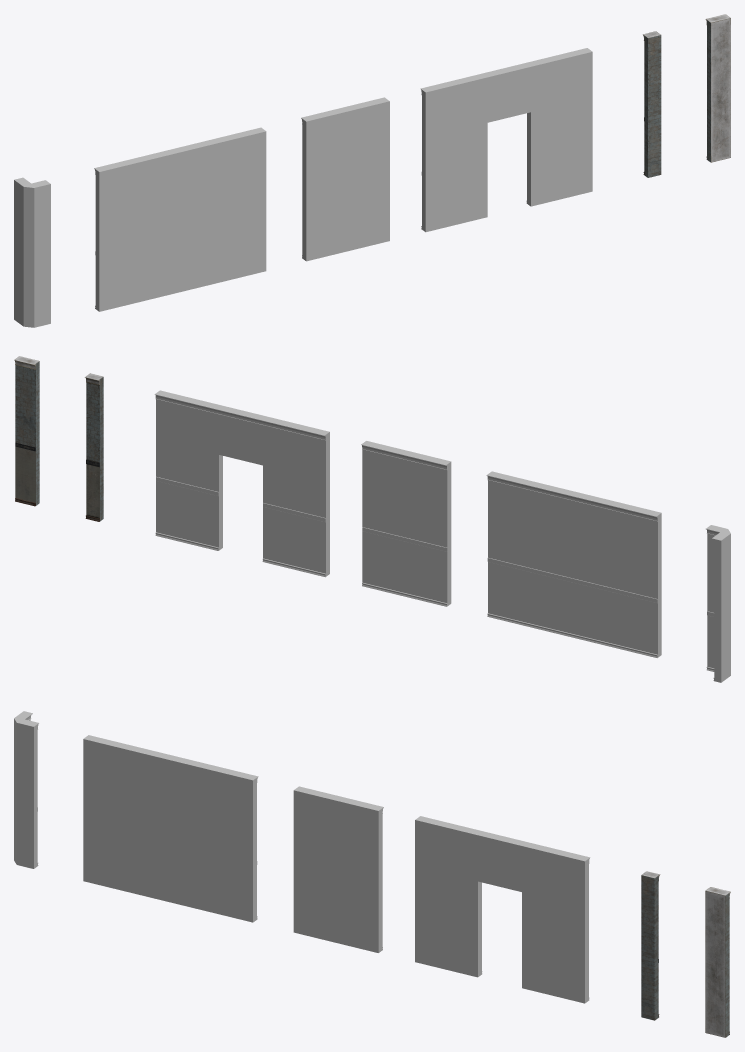
File: Paredes.fbx
3 renders of one model, top to bottom at view 1: azimuth 30°, elevation 25°; view 2: azimuth 150°, elevation 25°; view 3: azimuth 330°, elevation 25°, orthographic.
Visible parts, largest first — view 1: 05, 04, 06, 03, 02, 01; view 2: 05, 04, 06, 02, 03, 01; view 3: 05, 04, 06, 02, 03, 01.
Boxes of the visible parts, bbox=[...] form: 05: bbox=[94, 127, 266, 311]; 04: bbox=[420, 48, 592, 232]; 06: bbox=[301, 97, 389, 261]; 03: bbox=[14, 177, 50, 327]; 02: bbox=[705, 14, 730, 162]; 01: bbox=[643, 31, 661, 177]; 05: bbox=[486, 471, 661, 657]; 04: bbox=[154, 390, 329, 577]; 06: bbox=[361, 441, 451, 606]; 02: bbox=[14, 356, 39, 506]; 03: bbox=[706, 525, 730, 682]; 01: bbox=[85, 373, 103, 521]; 05: bbox=[83, 735, 258, 922]; 04: bbox=[415, 816, 590, 1003]; 06: bbox=[293, 786, 383, 952]; 02: bbox=[705, 887, 730, 1037]; 03: bbox=[14, 711, 38, 868]; 01: bbox=[641, 871, 660, 1020].
Bounding box in the file's own units: 2106 × 400 × 70.02.
